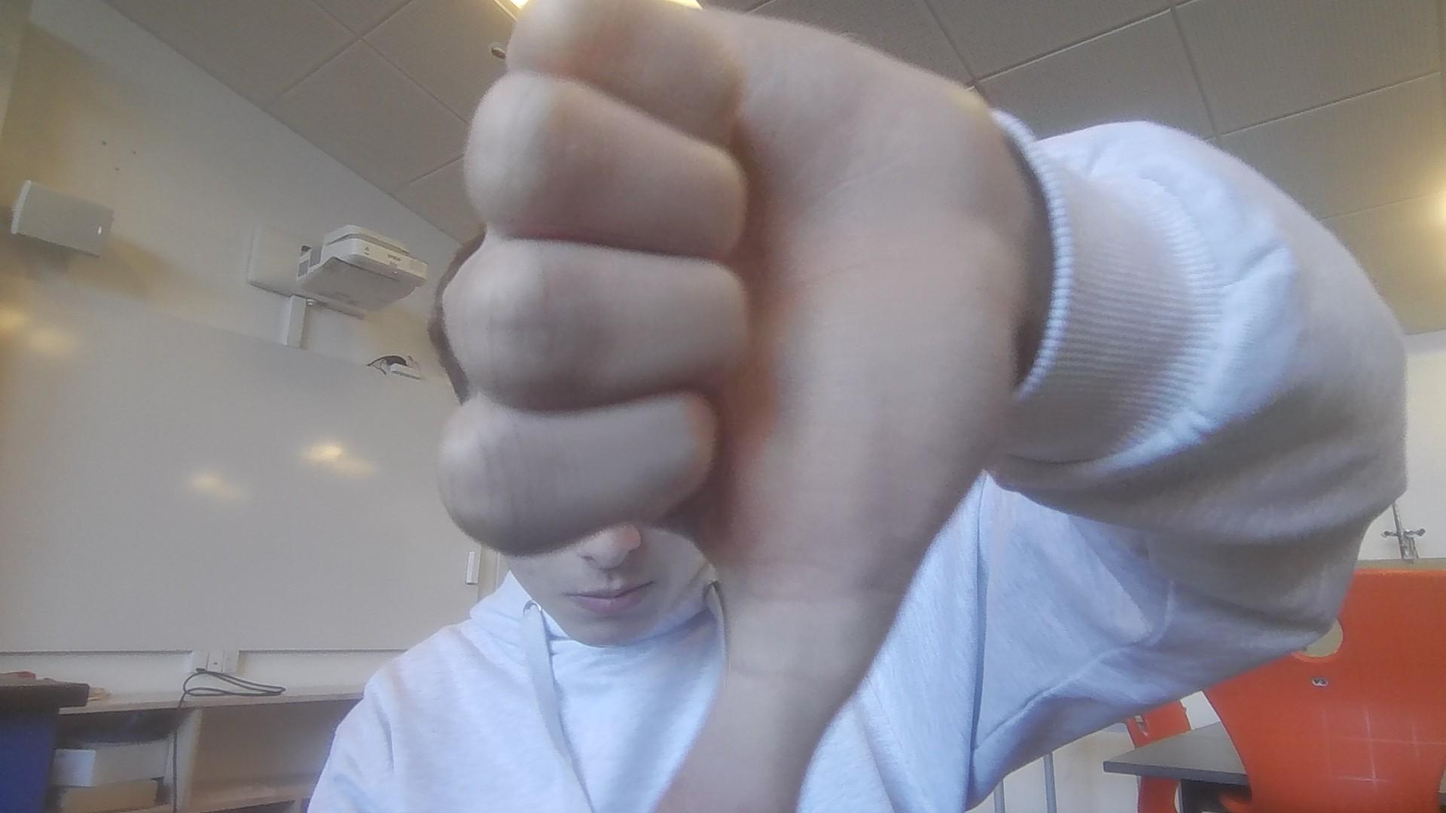thumbs down: (452, 0, 1037, 812)
